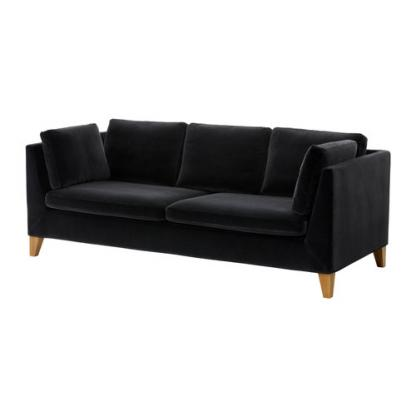Sofa: (21, 116, 393, 300)
